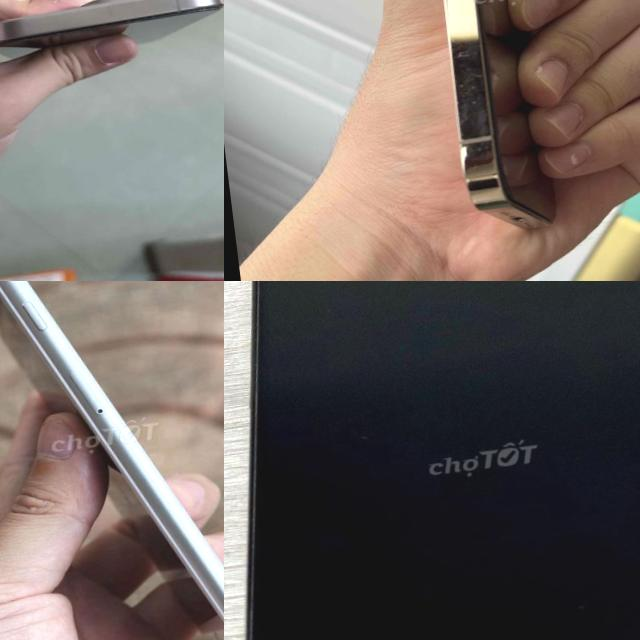gen_12_13: (224, 281, 640, 640), (392, 0, 577, 242)
gen_15: (0, 0, 224, 95)
gen_7_8: (0, 281, 224, 640)
